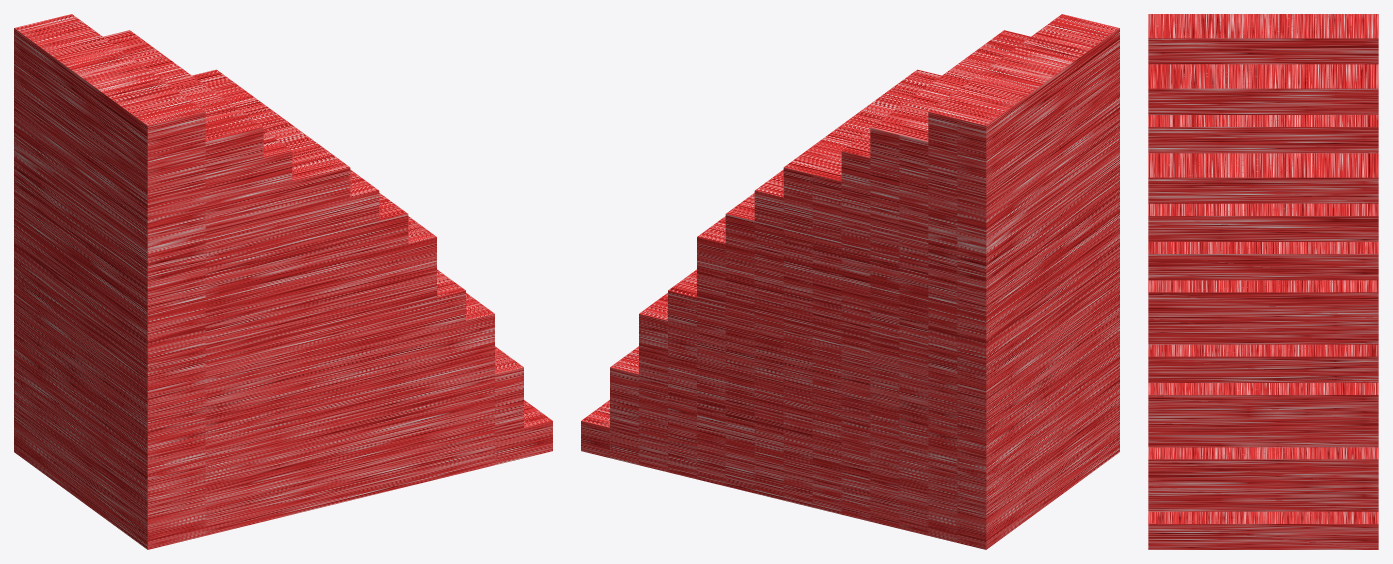
Rendered from tier3_piece_02.obj.
The picture shows the model from 3 angles, left to right: view 1: azimuth 30°, elevation 25°; view 2: azimuth 150°, elevation 25°; view 3: azimuth 270°, elevation 25°; orthographic projection. The views are drawn at different scales.
Visible parts, largest first — view 1: tier3_piece_02; view 2: tier3_piece_02; view 3: tier3_piece_02.
Boxes of the visible parts, box(x1,y1,x2,y2) form: tier3_piece_02: box(14, 14, 552, 549); tier3_piece_02: box(581, 14, 1119, 549); tier3_piece_02: box(1148, 14, 1378, 549).
Size of the model in its own units: 0.875 by 0.875 by 0.5.
